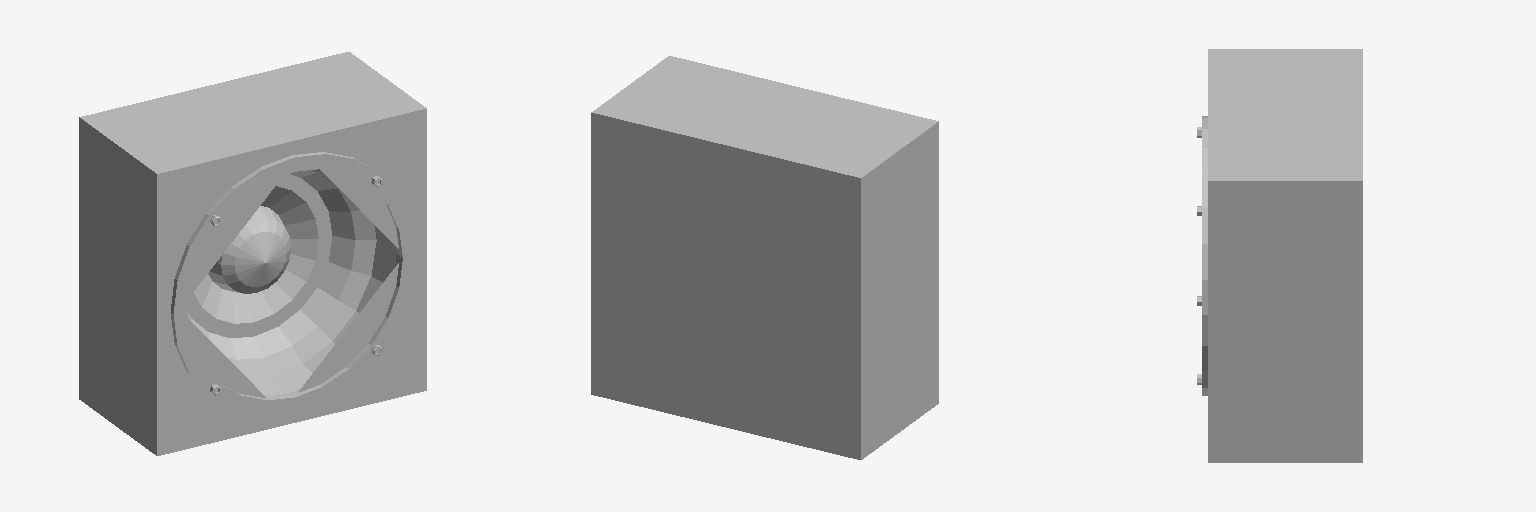
File: Fit_YinXiang_5.obj
3 renders of one model, left to right at view 1: azimuth 30°, elevation 25°; view 2: azimuth 150°, elevation 25°; view 3: azimuth 270°, elevation 25°, orthographic.
Visible parts, largest first — view 1: Box009; view 2: Box009; view 3: Box009.
Boxes of the visible parts, x1,y1,x2,y2 form: Box009: [79, 52, 426, 455]; Box009: [591, 56, 938, 459]; Box009: [1197, 49, 1362, 462].
Bounding box in the file's own units: 2 × 2 × 1.07.